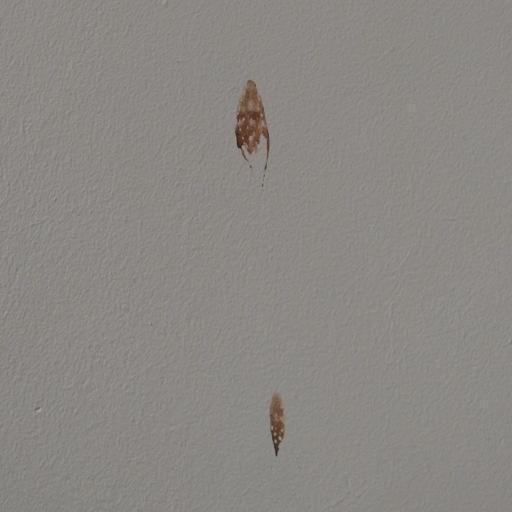stain: (231, 61, 279, 194), (261, 383, 301, 461)
